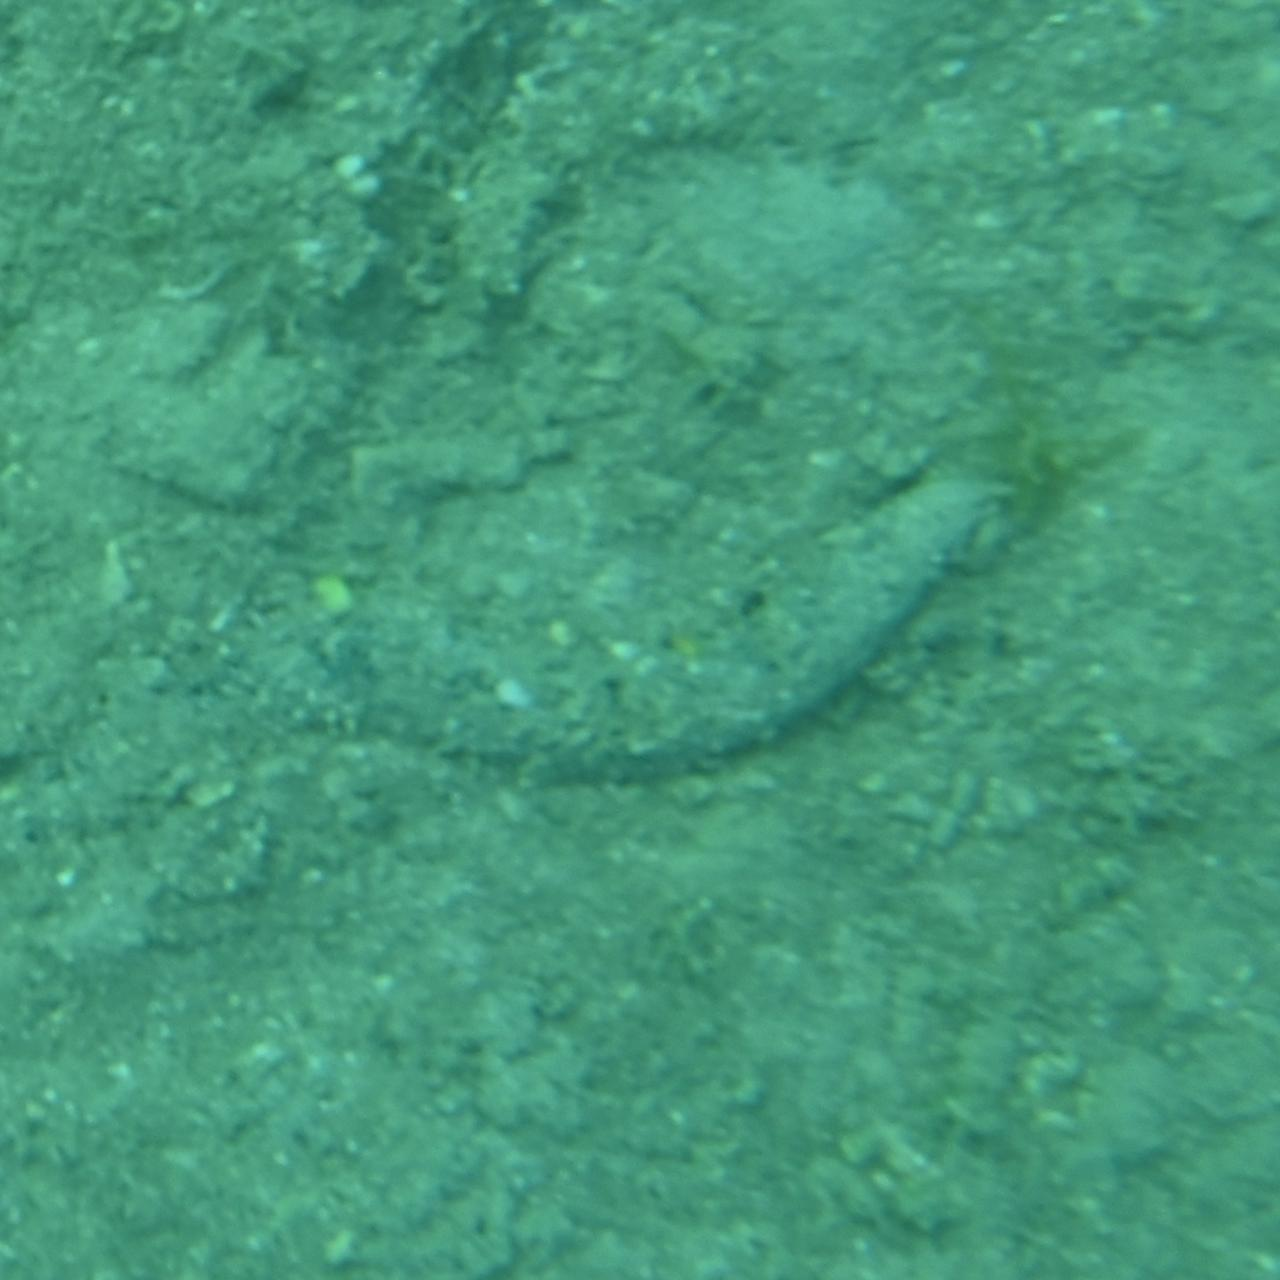Holothuria tubulosa: (260, 478, 1020, 802)
